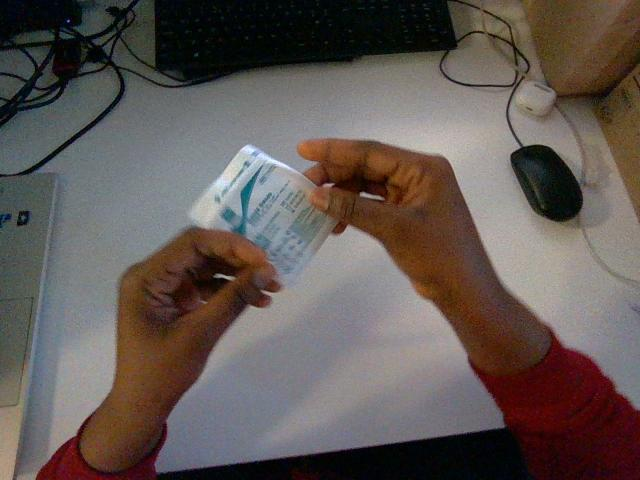gauze: (189, 145, 336, 285)
